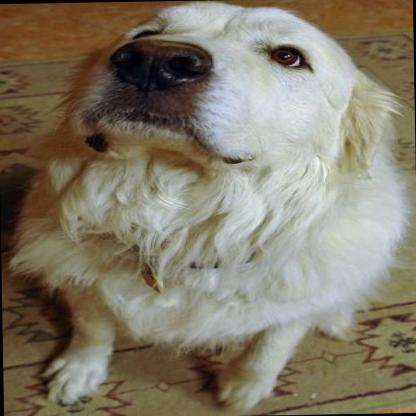Great_Pyrenees: (3, 0, 414, 414)
